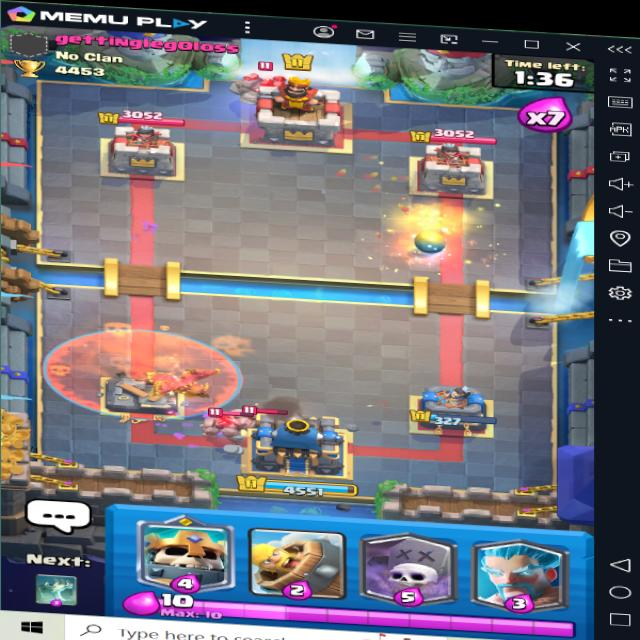golem: (222, 60, 308, 117), (198, 405, 254, 446)
